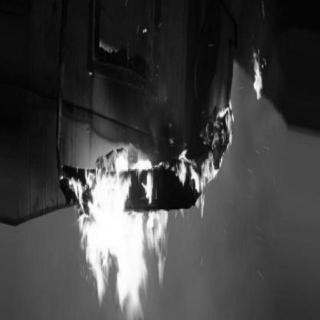Fire: (61, 146, 170, 316), (170, 98, 234, 215), (248, 46, 268, 112)
